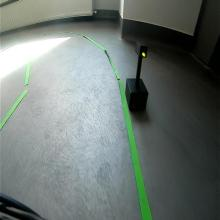green: (135, 40, 148, 59)
